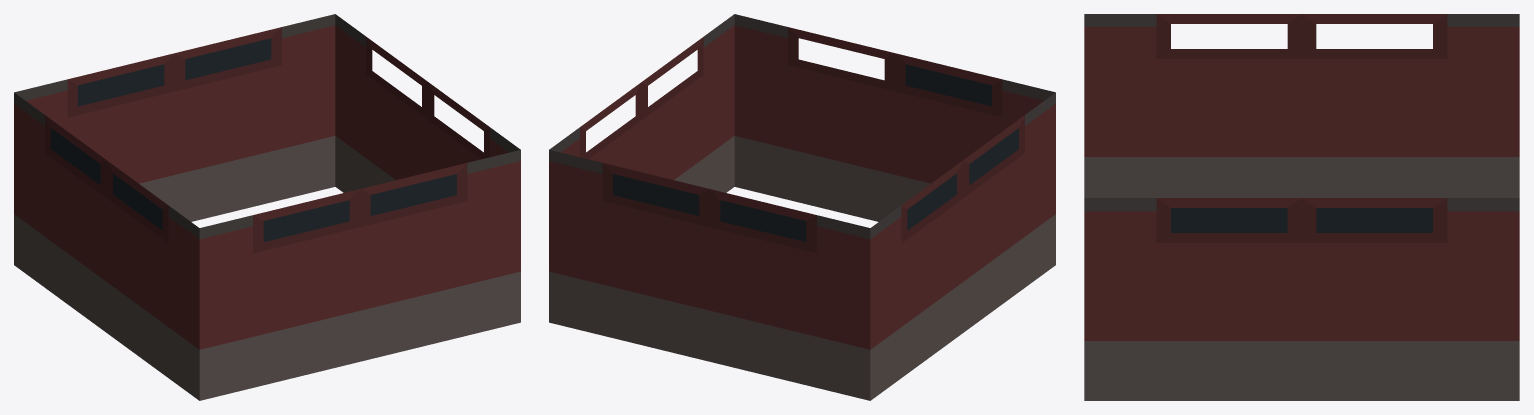
File: StackA-Sm_DLOD2.fbx
3 renders of one model, left to right at view 1: azimuth 30°, elevation 25°; view 2: azimuth 150°, elevation 25°; view 3: azimuth 270°, elevation 25°, orthographic. The views are drawn at different scales.
Parts seen in each view (by area): view 1: StackA-Sm_DLOD2; view 2: StackA-Sm_DLOD2; view 3: StackA-Sm_DLOD2.
Boxes of the visible parts, left/top/right/bottom form: StackA-Sm_DLOD2: left=14, top=14, right=520, bottom=400; StackA-Sm_DLOD2: left=549, top=14, right=1055, bottom=400; StackA-Sm_DLOD2: left=1084, top=14, right=1519, bottom=400.
Bounding box in the file's own units: 750 × 386 × 750.
